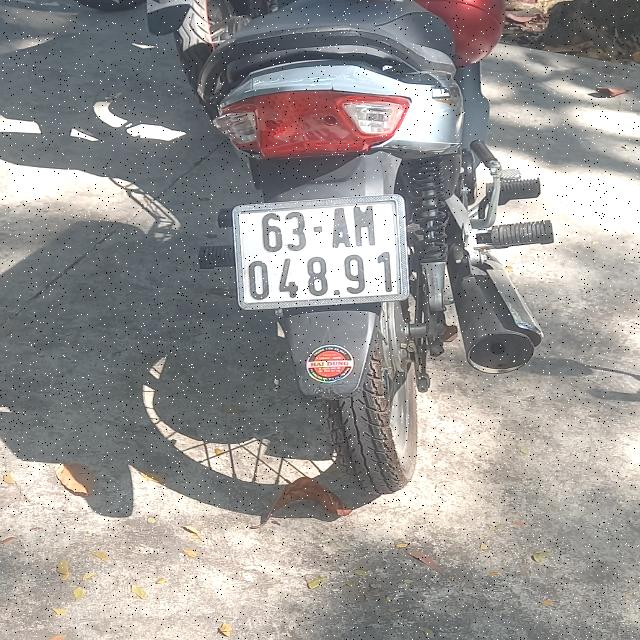0: (249, 260, 271, 299)
1: (374, 250, 394, 292)
3: (286, 212, 306, 254)
4: (280, 256, 300, 299)
6: (262, 212, 284, 254)
8: (306, 254, 332, 298)
9: (344, 254, 365, 294)
A: (332, 208, 351, 250)
M: (353, 205, 377, 246)
